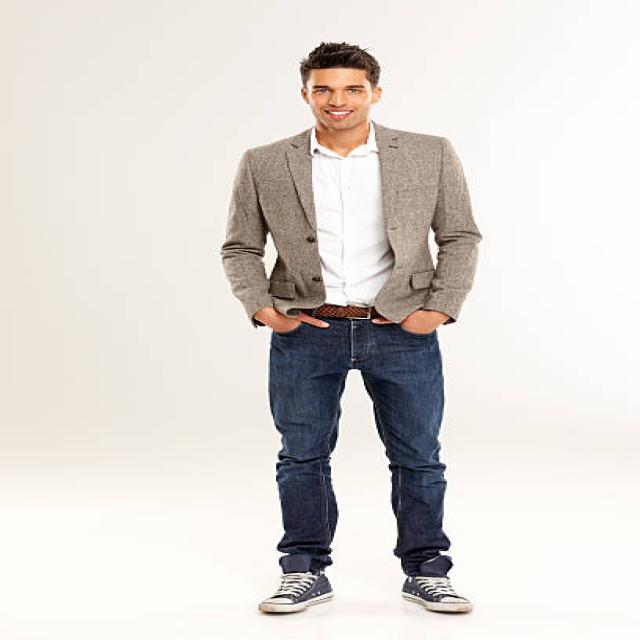Edited images: (207, 32, 517, 636)
